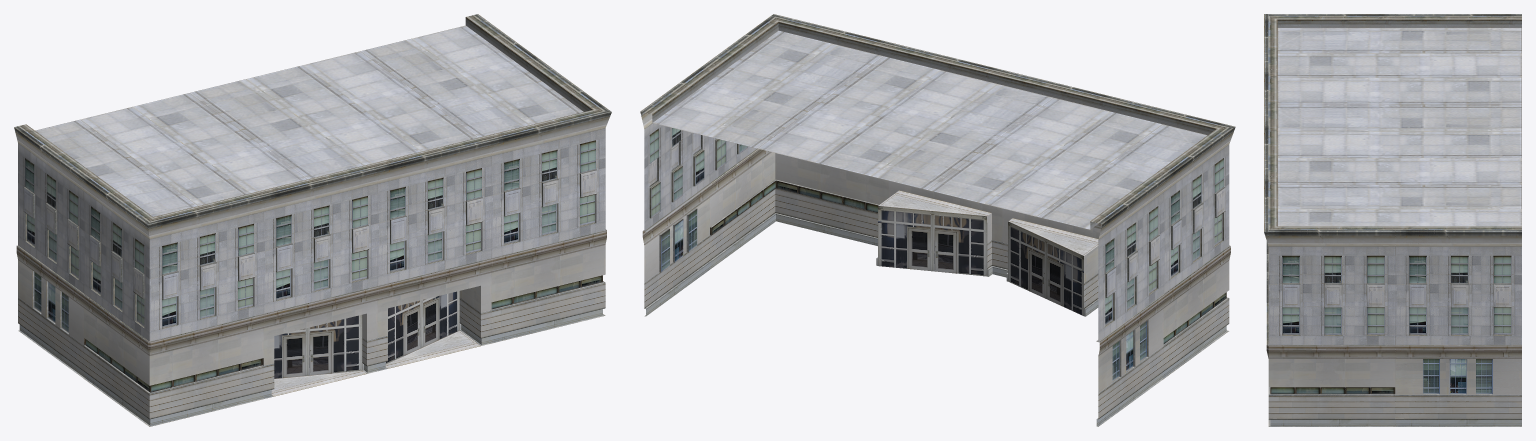
The model's file is build3.FBX.
3 renders of one model, left to right at view 1: azimuth 30°, elevation 25°; view 2: azimuth 150°, elevation 25°; view 3: azimuth 270°, elevation 25°, orthographic. The views are drawn at different scales.
Parts seen in each view (by area): view 1: StyleC-Building1; view 2: StyleC-Building1; view 3: StyleC-Building1.
Boxes of the visible parts, x1,y1,x2,y2 form: StyleC-Building1: (14,14,611,426); StyleC-Building1: (640,14,1235,426); StyleC-Building1: (1264,14,1521,426).
Size of the model in its own units: 2850 by 1200 by 1425.
